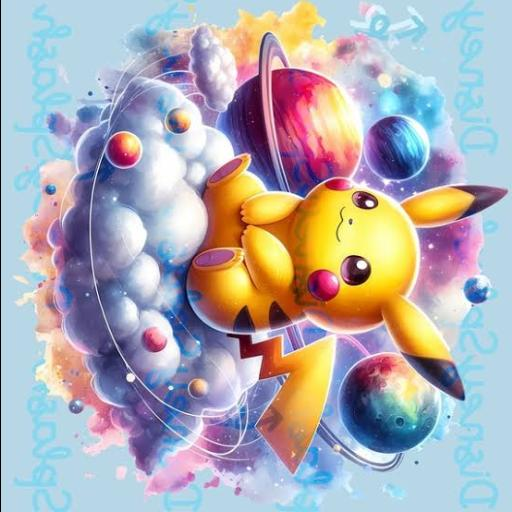Pikachu: (186, 152, 506, 474)
